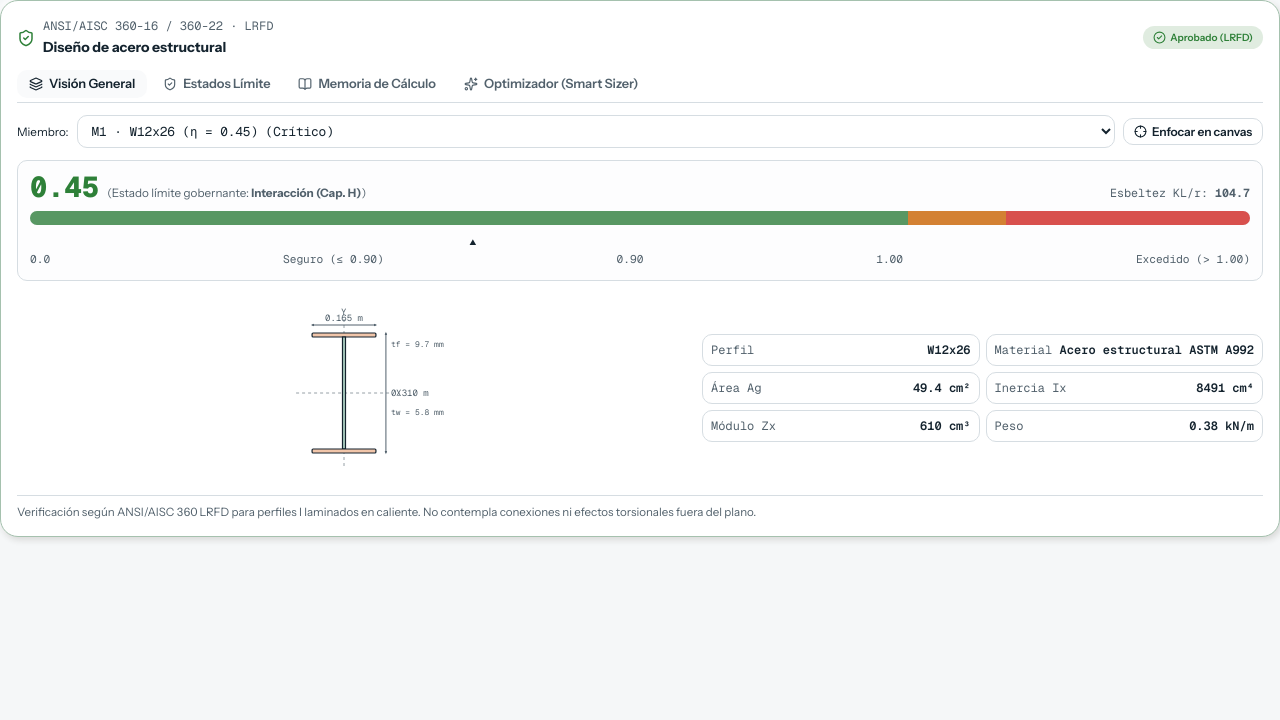
Scenario: AiscSteelDesignCard (Fluid Multi-Tab Architecture) › navigates seamlessly between tabs (limits, sheet, sizer)
# Switch to Limit States Tab
Click the button "Estados Límite".
click(217, 84)  # box [151,70,282,98]
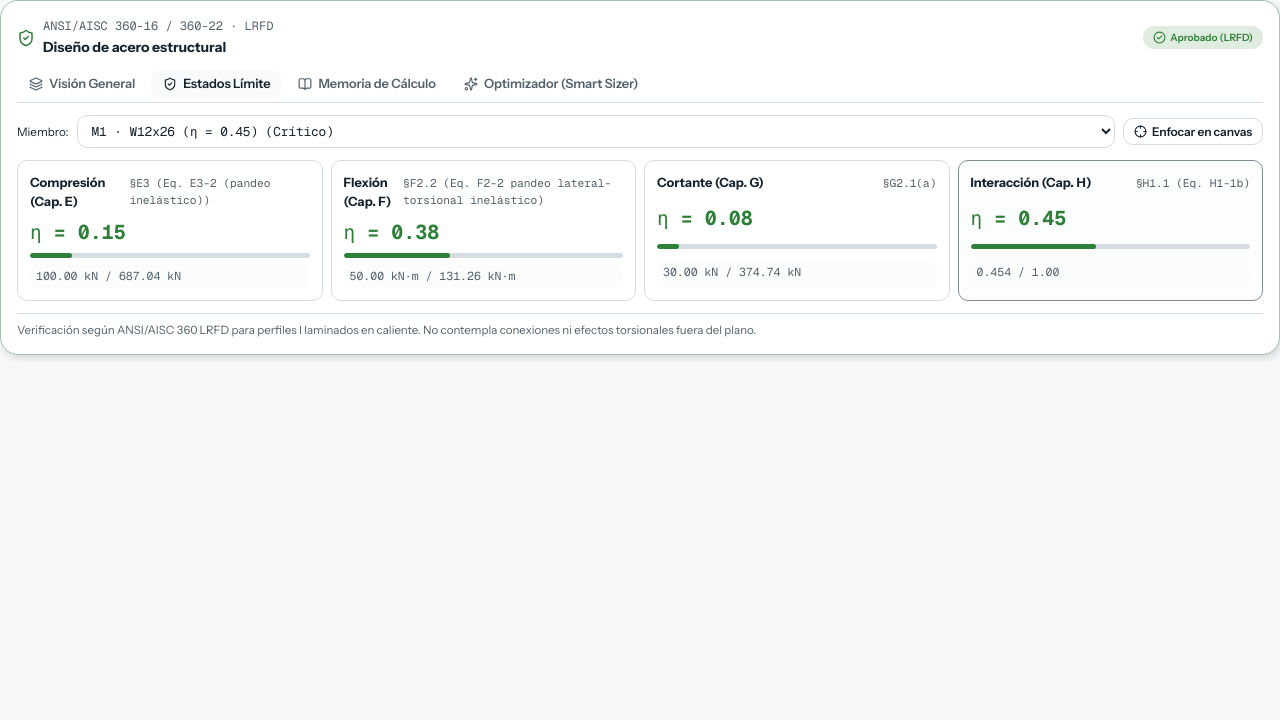
expect the element with class "aisc-limit-states-grid" is shown: met, box [17,160,1263,301]
expect the text "Flexión (Cap. F)" is shown: met, box [344,175,391,209]
expect the text "Cortante (Cap. G)" is shown: met, box [657,173,764,192]
# Switch to Calculation Sheet Tab
Click the button "Memoria de Cálculo".
click(367, 84)  # box [286,70,448,98]
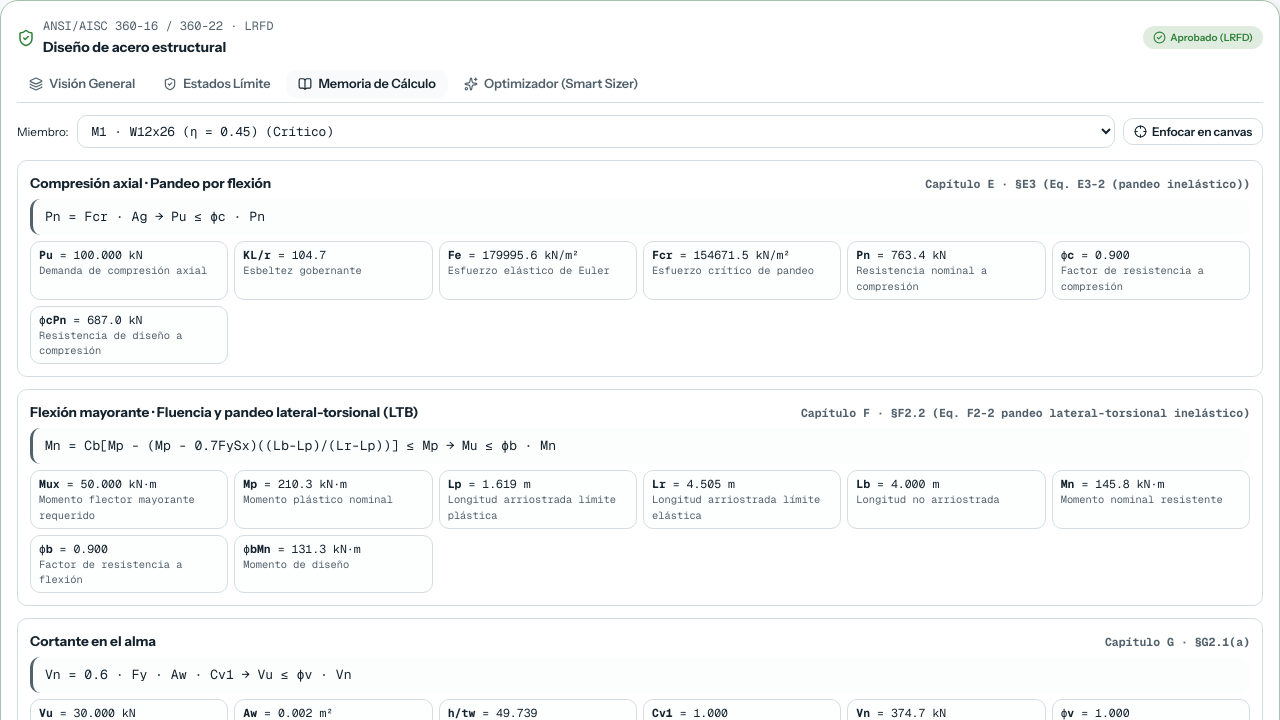
expect the element with class "aisc-calc-sheet" is shown: met
expect the text "Capítulo E · §E3 (Eq. E3-2 (pandeo inelástico))" is shown: met, box [925,174,1250,192]
# Switch to Section Sizer Tab
Click the button "Optimizador (Smart Sizer)".
click(551, 84)  # box [452,70,650,98]
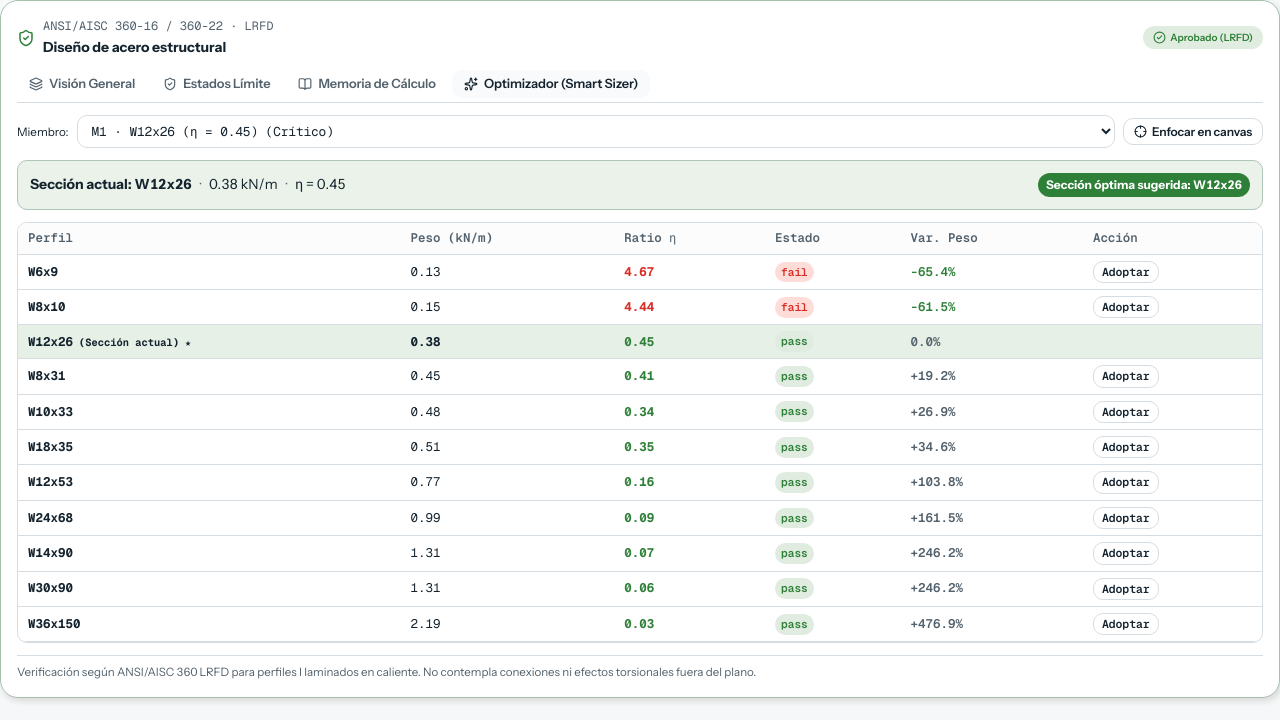
expect the table with class "aisc-sizer-table" is shown: met, box [18,223,1262,642]
expect the text "Sección actual: W12x26" is shown: met, box [30,176,192,194]
